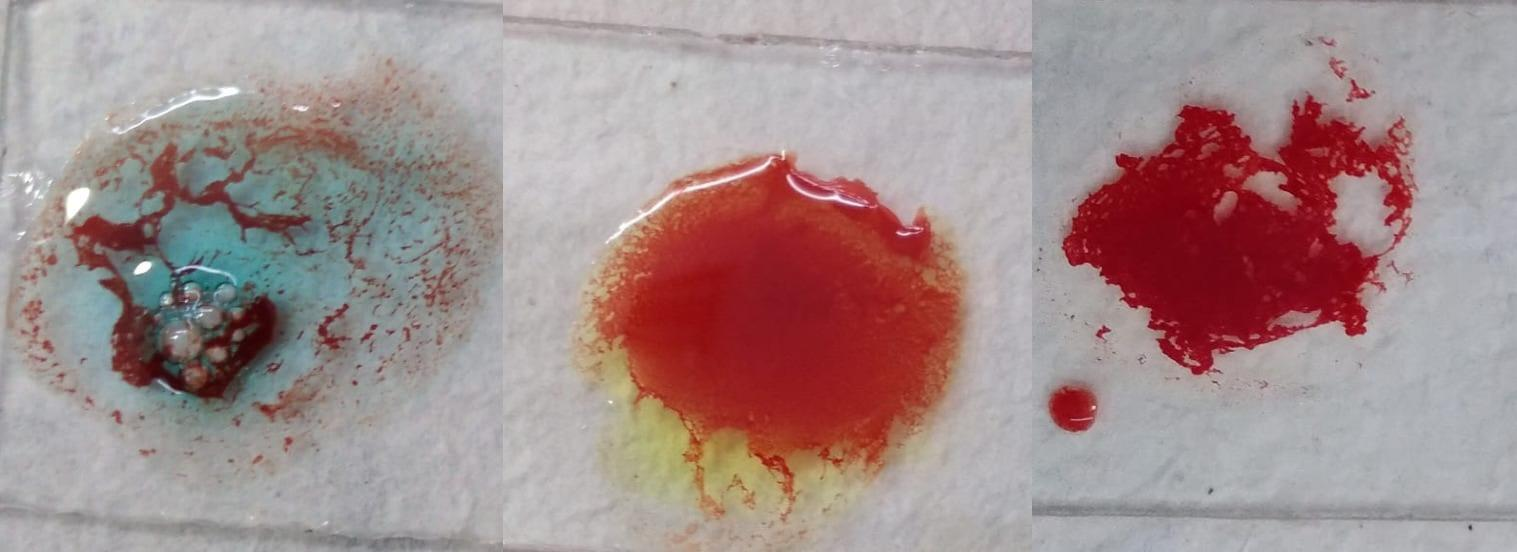A: (37, 83, 477, 491)
B: (590, 149, 967, 525)
D: (1070, 26, 1428, 389)
